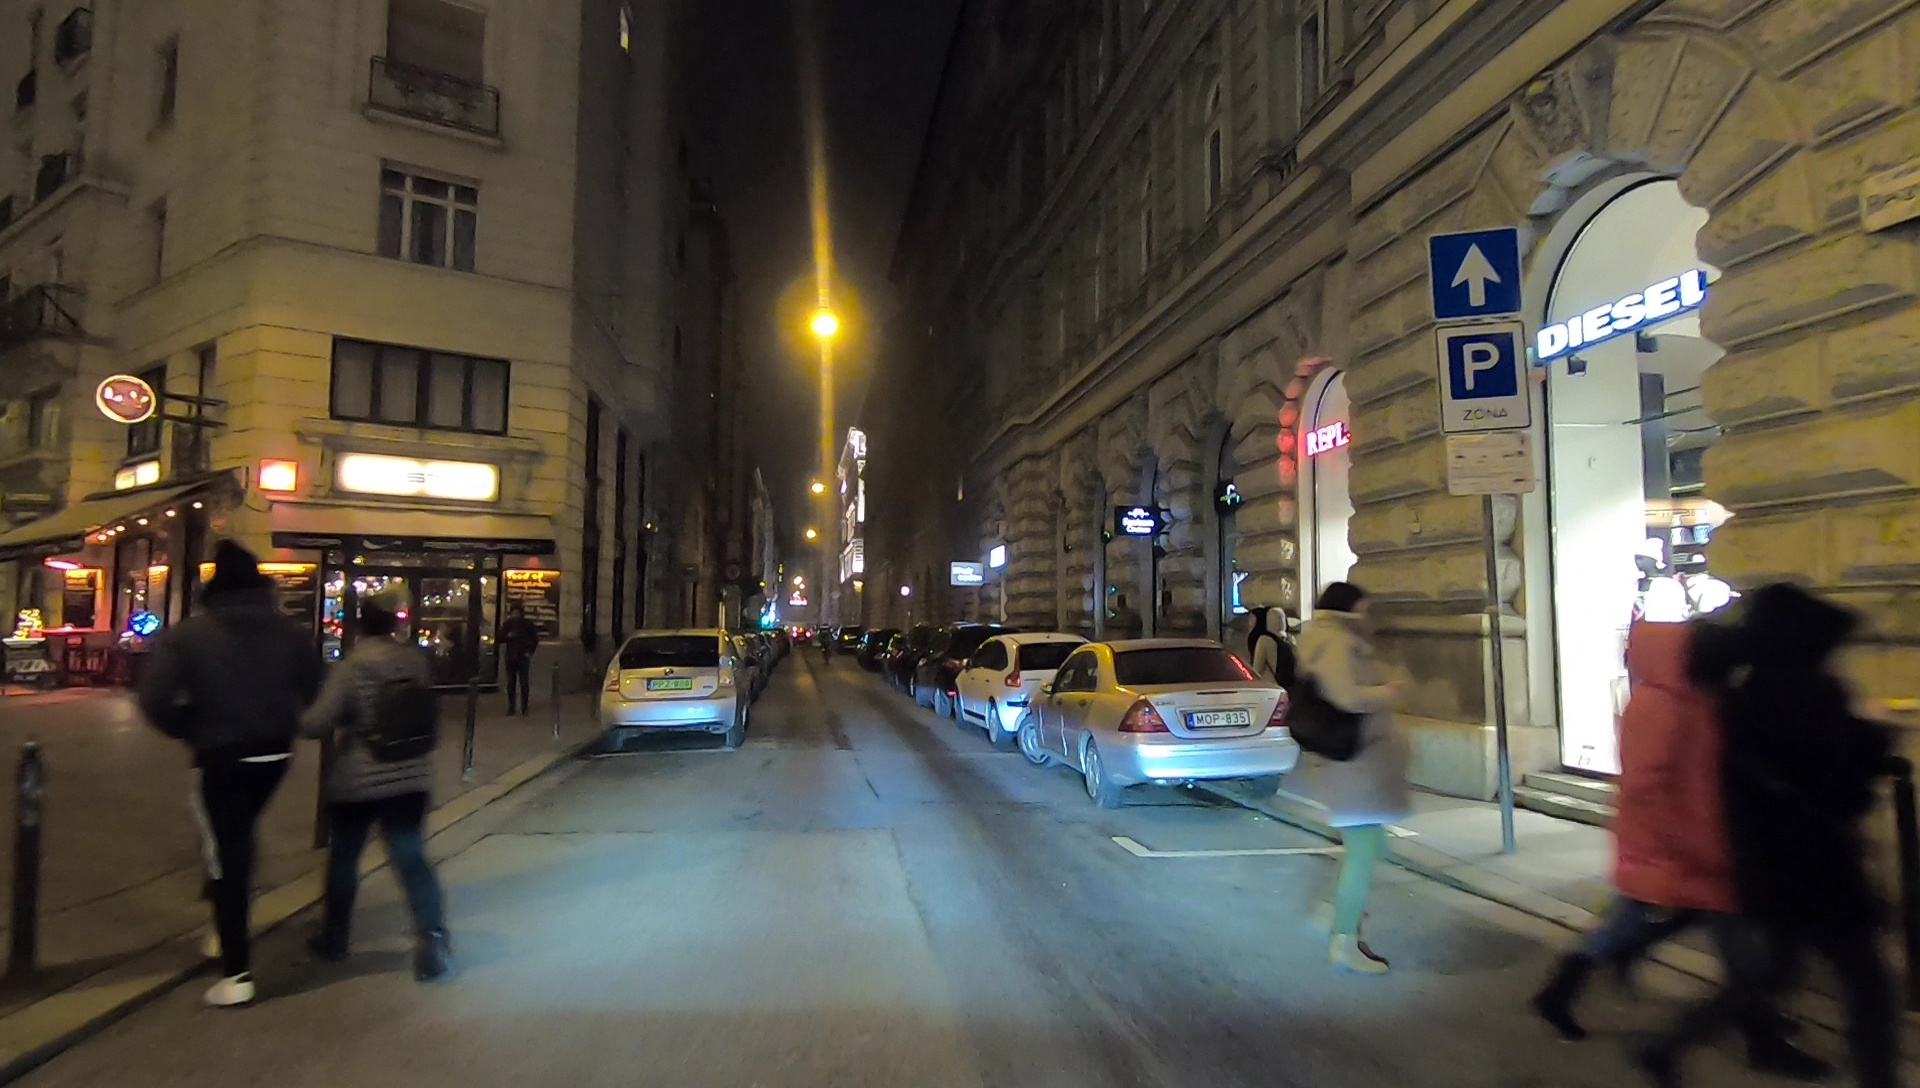person: (1721, 578, 1878, 1088), (147, 554, 293, 1006), (314, 599, 473, 986), (1593, 580, 1715, 1050), (1301, 589, 1402, 969), (1258, 610, 1306, 774), (502, 604, 538, 710)
